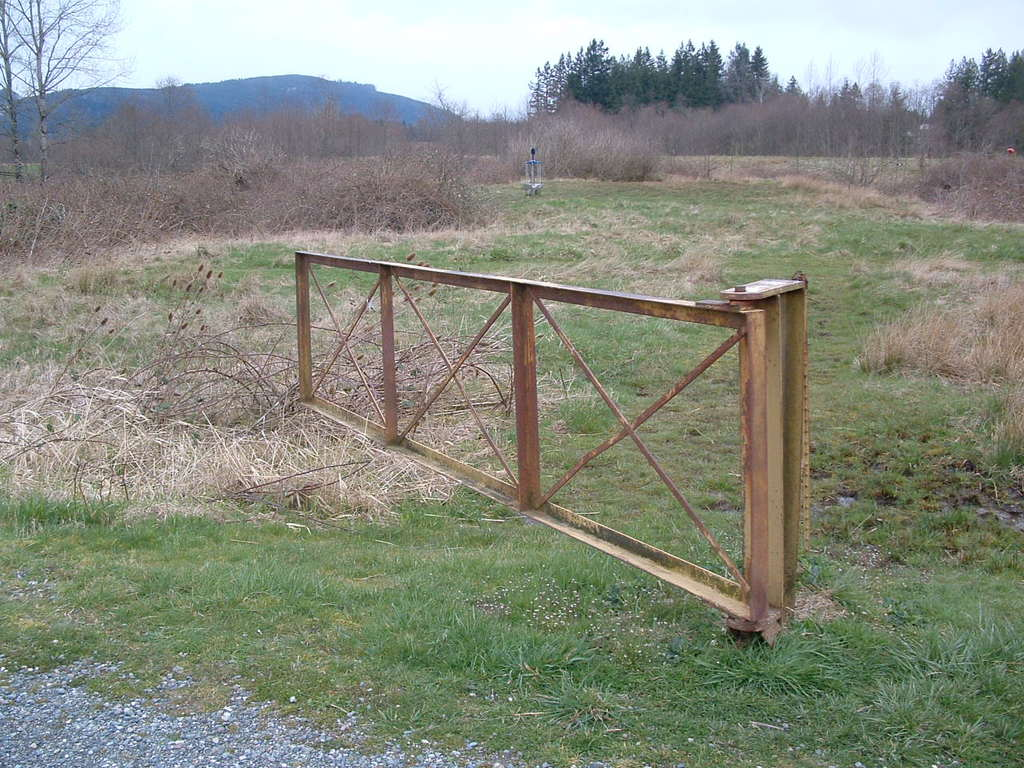Tree: (525, 33, 912, 152), (0, 0, 137, 184), (932, 46, 1024, 147)
